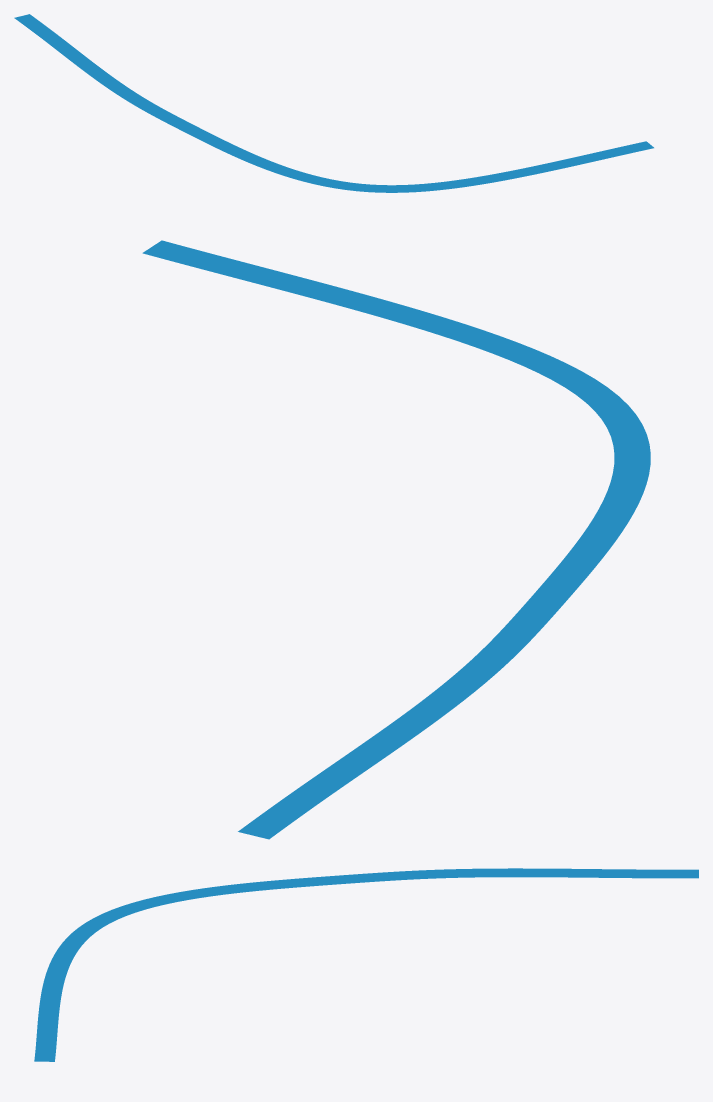
Rendered from guide.glb.
3 views of the same model, one above another, from view 1: azimuth 30°, elevation 25°; view 2: azimuth 150°, elevation 25°; view 3: azimuth 270°, elevation 25° (orthographic). The views are drawn at different scales.
Parts seen in each view (by area): view 1: static; view 2: static; view 3: static.
Boxes of the visible parts, bbox=[...] form: static: bbox=[14, 14, 653, 192]; static: bbox=[142, 240, 650, 839]; static: bbox=[34, 868, 698, 1061].
Bounding box in the file's own units: 8.05 × 0 × 10.65.
